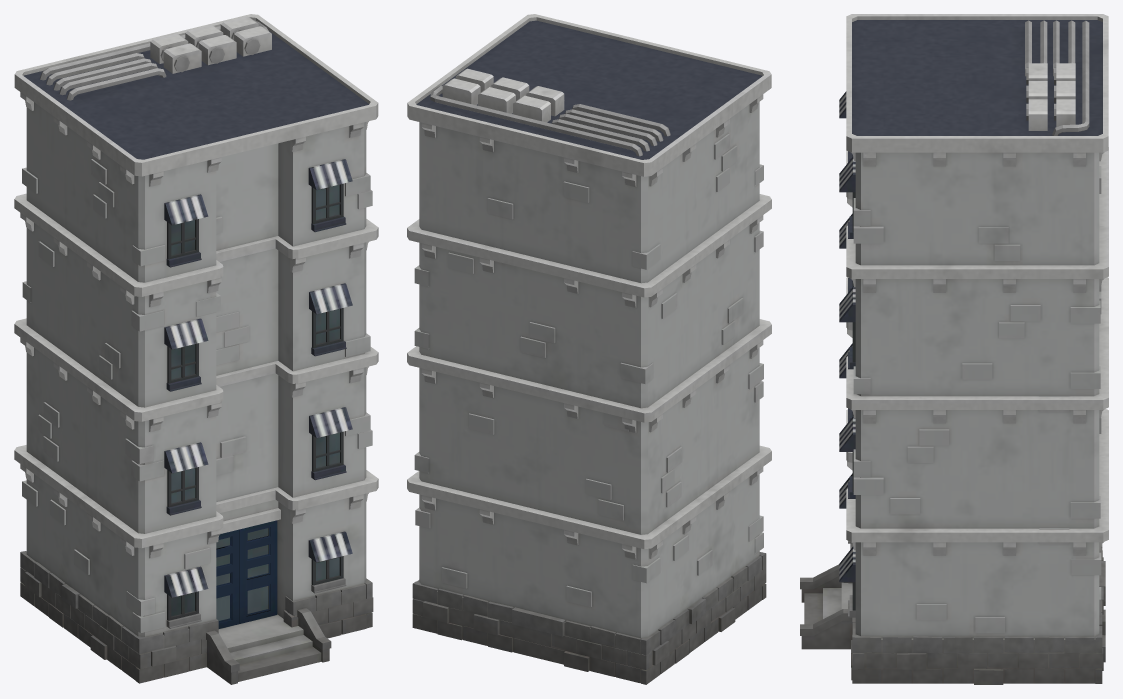
Rendered from 4Story_Center.glb.
3 renders of one model, left to right at view 1: azimuth 30°, elevation 25°; view 2: azimuth 150°, elevation 25°; view 3: azimuth 270°, elevation 25°, orthographic. The views are drawn at different scales.
Parts seen in each view (by area): view 1: 4Story_Center_high; view 2: 4Story_Center_high; view 3: 4Story_Center_high.
Part boxes in pixels (x1,y1,x2,y2): 4Story_Center_high: [14, 14, 378, 684]; 4Story_Center_high: [407, 14, 771, 684]; 4Story_Center_high: [800, 14, 1108, 684].
Bounding box in the file's own units: 2.42 × 5.09 × 2.53.
Materials: 2 (2 with a texture image).
